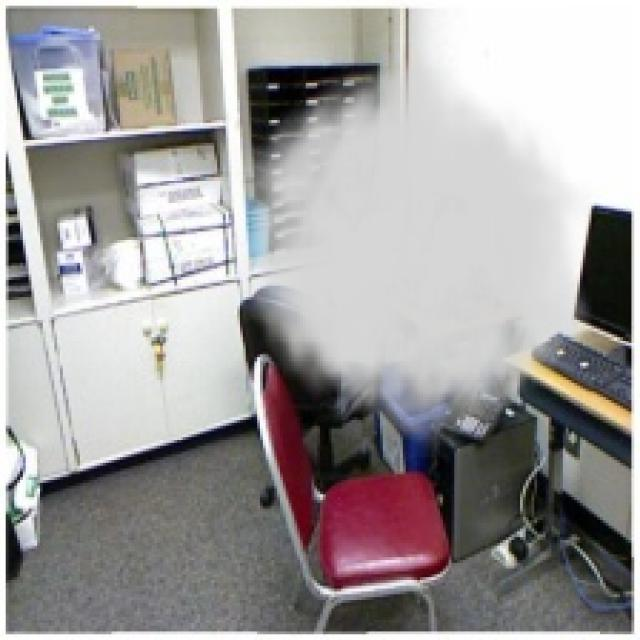smoke: (226, 43, 591, 457)
